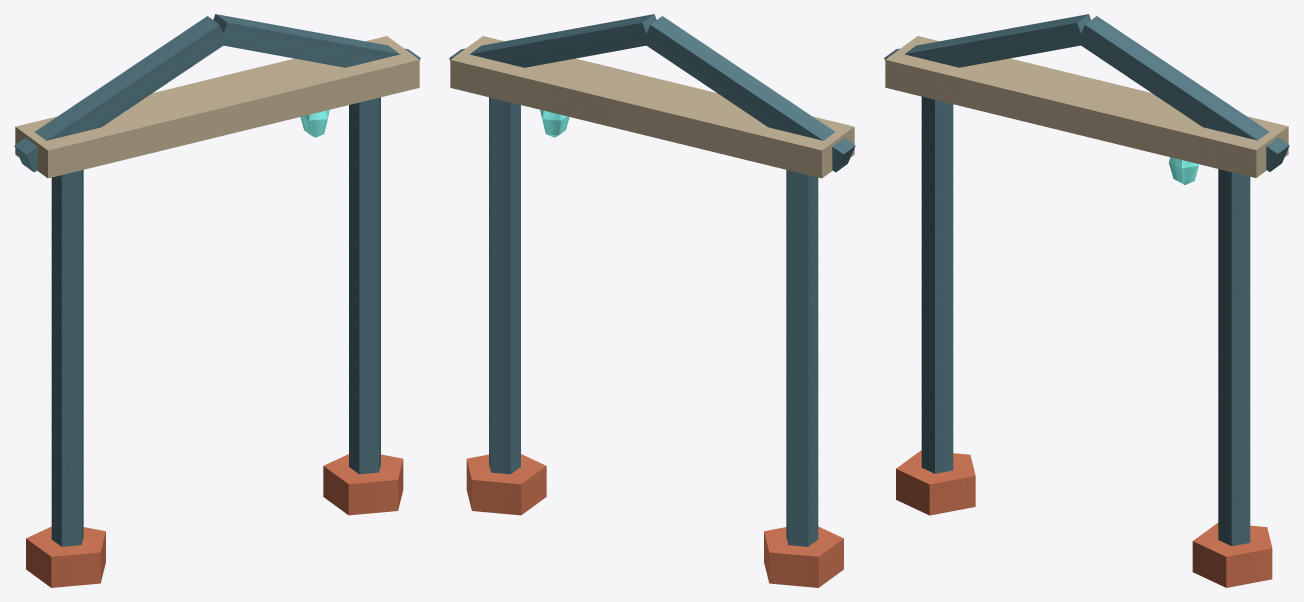
The model's file is atlas100-s041-a09.lod1.glb.
3 renders of one model, left to right at view 1: azimuth 30°, elevation 25°; view 2: azimuth 150°, elevation 25°; view 3: azimuth 330°, elevation 25°, orthographic.
Visible parts, largest first — view 1: atlas100-s041-a09:part-004, atlas100-s041-a09:part-000, atlas100-s041-a09:part-002, atlas100-s041-a09:part-005, atlas100-s041-a09:part-006, atlas100-s041-a09:part-003, atlas100-s041-a09:part-001, atlas100-s041-a09:part-008; view 2: atlas100-s041-a09:part-004, atlas100-s041-a09:part-000, atlas100-s041-a09:part-002, atlas100-s041-a09:part-005, atlas100-s041-a09:part-006, atlas100-s041-a09:part-003, atlas100-s041-a09:part-001, atlas100-s041-a09:part-008; view 3: atlas100-s041-a09:part-004, atlas100-s041-a09:part-000, atlas100-s041-a09:part-002, atlas100-s041-a09:part-006, atlas100-s041-a09:part-005, atlas100-s041-a09:part-003, atlas100-s041-a09:part-001, atlas100-s041-a09:part-008.
Part boxes in pixels (x1,y1,x2,y2): atlas100-s041-a09:part-004: (15, 36, 419, 178); atlas100-s041-a09:part-000: (51, 170, 83, 546); atlas100-s041-a09:part-002: (349, 97, 380, 474); atlas100-s041-a09:part-005: (14, 16, 227, 172); atlas100-s041-a09:part-006: (213, 14, 420, 67); atlas100-s041-a09:part-003: (323, 454, 403, 515); atlas100-s041-a09:part-001: (26, 526, 105, 587); atlas100-s041-a09:part-008: (300, 110, 329, 137); atlas100-s041-a09:part-004: (450, 36, 854, 178); atlas100-s041-a09:part-000: (786, 170, 818, 546); atlas100-s041-a09:part-002: (489, 97, 520, 474); atlas100-s041-a09:part-005: (643, 16, 855, 172); atlas100-s041-a09:part-006: (449, 14, 656, 67); atlas100-s041-a09:part-003: (466, 454, 546, 515); atlas100-s041-a09:part-001: (764, 526, 843, 587); atlas100-s041-a09:part-008: (540, 110, 569, 137); atlas100-s041-a09:part-004: (885, 36, 1288, 177); atlas100-s041-a09:part-000: (921, 96, 953, 473); atlas100-s041-a09:part-002: (1218, 169, 1250, 546); atlas100-s041-a09:part-006: (1080, 16, 1289, 171); atlas100-s041-a09:part-005: (884, 14, 1090, 67); atlas100-s041-a09:part-003: (1192, 523, 1272, 587); atlas100-s041-a09:part-001: (896, 450, 975, 515); atlas100-s041-a09:part-008: (1168, 157, 1198, 184).
Size of the model in its own units: 2.65 by 3.31 by 0.4755.
4 materials, 4 textured.
